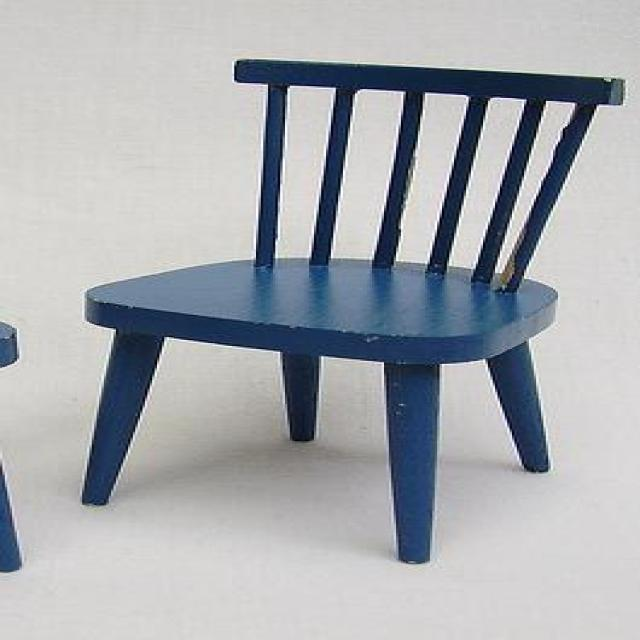chair: (85, 57, 626, 569)
